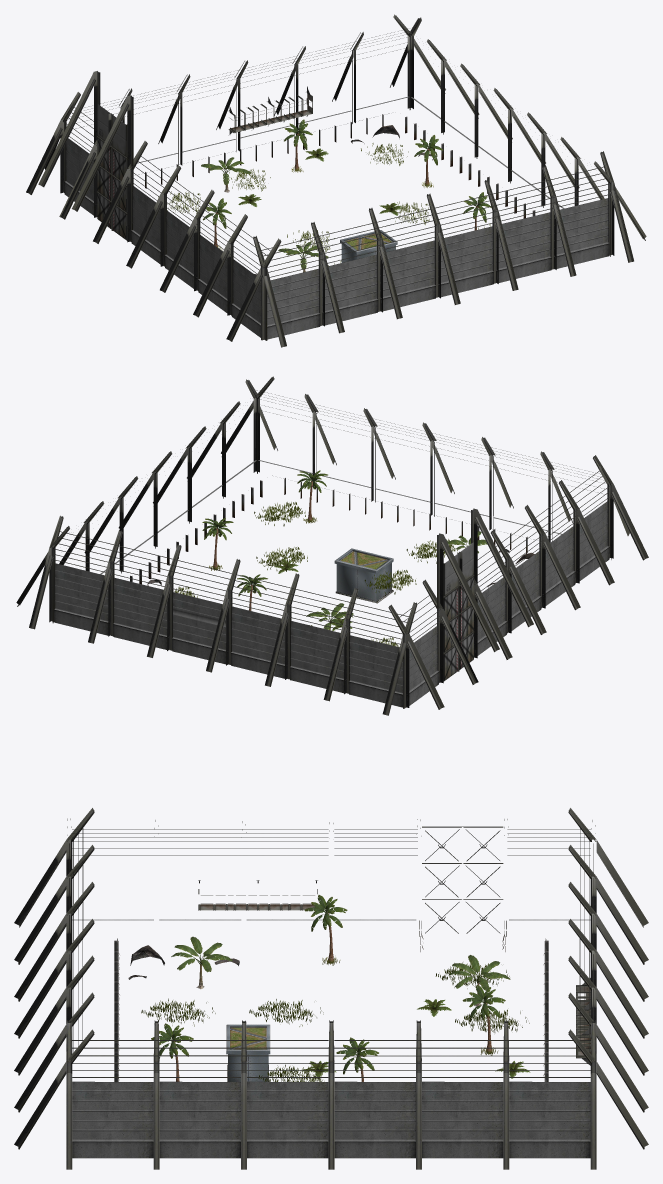
The picture shows the model from 3 angles, top to bottom: view 1: azimuth 30°, elevation 25°; view 2: azimuth 150°, elevation 25°; view 3: azimuth 270°, elevation 25°; orthographic projection. The views are drawn at different scales.
Visible parts, largest first — view 1: Mesh_0025_rip, Mesh_0041_rip2, Mesh_0001_rip6, Raised_Platform, Mesh_0048_rip; view 2: Mesh_0025_rip, Raised_Platform, Mesh_0001_rip6, Mesh_0041_rip2, Mesh_0048_rip; view 3: Mesh_0025_rip, Mesh_0041_rip2, Mesh_0001_rip6, Raised_Platform, Mesh_0048_rip.
Boxes of the visible parts, <box> form: Mesh_0025_rip: <box>26,14,646,347</box>; Mesh_0041_rip2: <box>203,119,491,250</box>; Mesh_0001_rip6: <box>158,143,490,266</box>; Raised_Platform: <box>340,230,397,262</box>; Mesh_0048_rip: <box>201,157,328,272</box>; Mesh_0025_rip: <box>16,376,648,715</box>; Raised_Platform: <box>334,548,393,603</box>; Mesh_0001_rip6: <box>174,502,457,646</box>; Mesh_0041_rip2: <box>202,470,352,630</box>; Mesh_0048_rip: <box>306,531,487,630</box>; Mesh_0025_rip: <box>14,808,648,1169</box>; Mesh_0041_rip2: <box>151,895,530,1081</box>; Mesh_0001_rip6: <box>141,962,529,1081</box>; Raised_Platform: <box>226,1024,270,1081</box>; Mesh_0048_rip: <box>171,936,510,1006</box>.
Bounding box in the file's own units: 82.58 × 30.38 × 78.13.
Materials: 8 (8 with a texture image).
